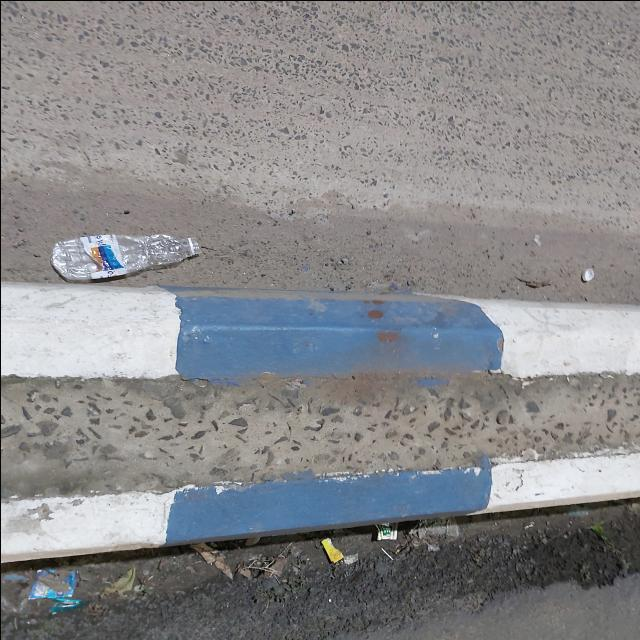Clear plastic bottle: (50, 233, 200, 279)
Other plastic: (28, 568, 76, 598), (320, 537, 343, 562), (50, 597, 85, 613), (375, 521, 397, 539)
Plastic bottle cap: (581, 267, 593, 280)
